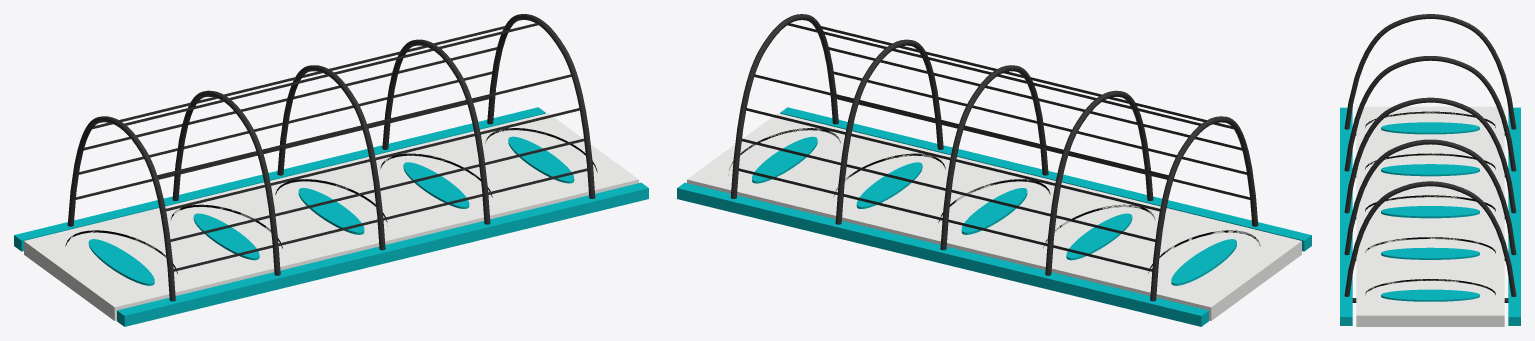
Rendered from Bridge.fbx.
3 renders of one model, left to right at view 1: azimuth 30°, elevation 25°; view 2: azimuth 150°, elevation 25°; view 3: azimuth 270°, elevation 25°, orthographic. The views are drawn at different scales.
Parts seen in each view (by area): view 1: Cube_2, Cube, Cylinder_4_2, Cylinder_3_2, Cylinder_5_2, Cylinder_2_2, Cylinder_1_2, Sweep_NURBS_3, Sweep_NURBS_1, Sweep_NURBS, Sweep_NURBS_4, Sweep_NURBS_2 (+14 smaller); view 2: Cube_2, Cube, Cylinder_4_2, Cylinder_5_2, Cylinder_3_2, Cylinder_2_2, Cylinder_1_2, Sweep_NURBS_3, Sweep_NURBS_4, Sweep_NURBS, Sweep_NURBS_1, Sweep_NURBS_2 (+14 smaller); view 3: Cube_2, Cube, Cylinder_5_2, Cylinder_2_2, Cylinder_1_2, Cylinder_4_2, Cylinder_3_2, Sweep_NURBS_3, Sweep_NURBS_1, Sweep_NURBS_4, Sweep_NURBS_2, Sweep_NURBS (+10 smaller).
Part boxes in pixels (left/top/right/bottom): Cube_2: left=24, top=113, right=638, bottom=320; Cube: left=14, top=107, right=648, bottom=326; Cylinder_4_2: left=65, top=230, right=177, bottom=292; Cylinder_3_2: left=170, top=205, right=282, bottom=266; Cylinder_5_2: left=485, top=128, right=597, bottom=189; Cylinder_2_2: left=380, top=154, right=492, bottom=215; Cylinder_1_2: left=275, top=181, right=387, bottom=240; Sweep_NURBS_3: left=67, top=116, right=175, bottom=301; Sweep_NURBS_1: left=382, top=39, right=490, bottom=224; Sweep_NURBS: left=277, top=65, right=385, bottom=250; Sweep_NURBS_4: left=487, top=14, right=595, bottom=198; Sweep_NURBS_2: left=172, top=90, right=280, bottom=275; Cube_2: left=687, top=113, right=1301, bottom=320; Cube: left=677, top=107, right=1311, bottom=326; Cylinder_4_2: left=1148, top=230, right=1259, bottom=292; Cylinder_5_2: left=728, top=128, right=840, bottom=189; Cylinder_3_2: left=1043, top=205, right=1155, bottom=266; Cylinder_2_2: left=833, top=154, right=945, bottom=215; Cylinder_1_2: left=938, top=179, right=1050, bottom=240; Sweep_NURBS_3: left=1150, top=116, right=1258, bottom=301; Sweep_NURBS_4: left=730, top=14, right=838, bottom=198; Sweep_NURBS: left=940, top=65, right=1048, bottom=250; Sweep_NURBS_1: left=835, top=39, right=943, bottom=224; Sweep_NURBS_2: left=1045, top=90, right=1153, bottom=275; Cube_2: left=1356, top=106, right=1504, bottom=326; Cube: left=1340, top=107, right=1520, bottom=325; Cylinder_5_2: left=1365, top=279, right=1495, bottom=310; Cylinder_2_2: left=1365, top=237, right=1495, bottom=268; Cylinder_1_2: left=1365, top=195, right=1495, bottom=226; Cylinder_4_2: left=1365, top=111, right=1495, bottom=142; Cylinder_3_2: left=1365, top=153, right=1495, bottom=183; Sweep_NURBS_3: left=1344, top=14, right=1516, bottom=129; Sweep_NURBS_1: left=1344, top=139, right=1516, bottom=255; Sweep_NURBS_4: left=1344, top=181, right=1516, bottom=296; Sweep_NURBS_2: left=1344, top=56, right=1516, bottom=171; Sweep_NURBS: left=1344, top=97, right=1516, bottom=213.
Bounding box in the file's own units: 1000 × 277 × 365.
